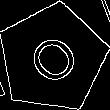O_SE: (20, 25, 85, 91)
